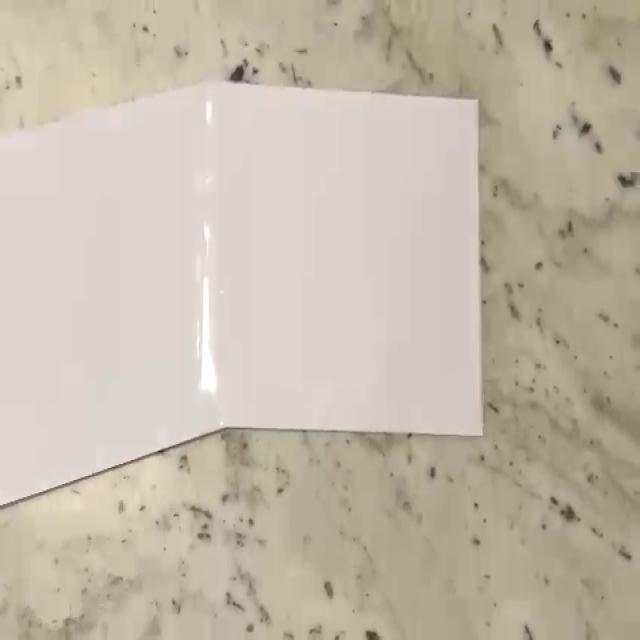road: (0, 81, 484, 508)
